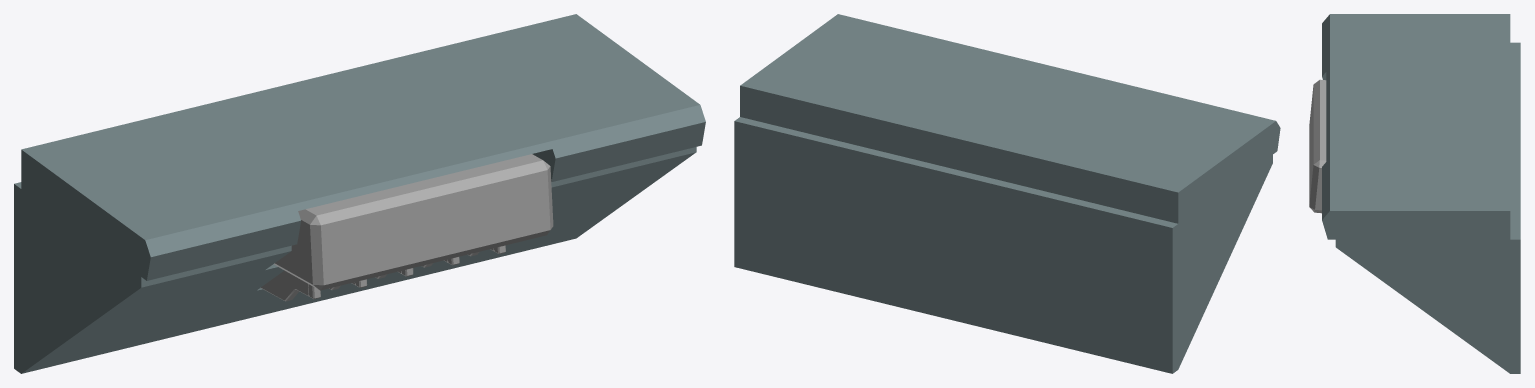
File: Cover_01.fbx
The picture shows the model from 3 angles, left to right: view 1: azimuth 30°, elevation 25°; view 2: azimuth 150°, elevation 25°; view 3: azimuth 270°, elevation 25°; orthographic projection. The views are drawn at different scales.
Parts seen in each view (by area): view 1: Room_COver_01; view 2: Room_COver_01; view 3: Room_COver_01.
Boxes of the visible parts, x1,y1,x2,y2 form: Room_COver_01: (14,14,705,373); Room_COver_01: (734,14,1280,373); Room_COver_01: (1309,14,1520,373).
Size of the model in its own units: 600 by 232 by 273.
Materials: 2 (1 with a texture image).
